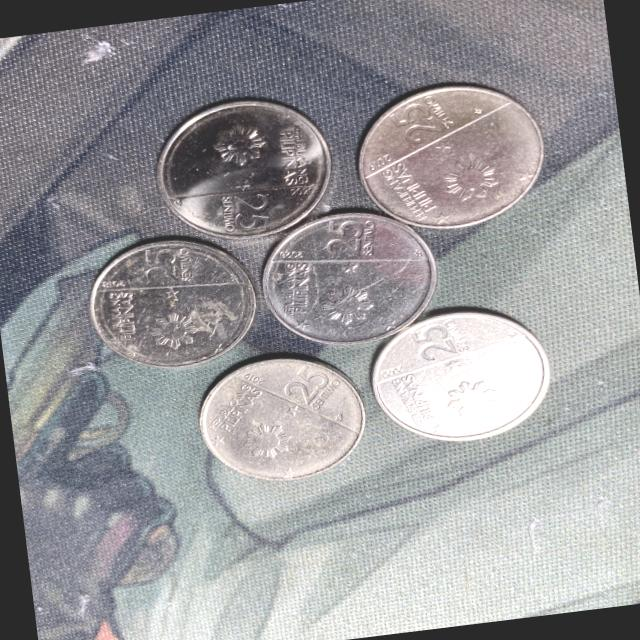25Cent_New_Front: (405, 320, 460, 366), (316, 213, 368, 260), (392, 104, 444, 148), (278, 366, 330, 408), (222, 190, 270, 234), (132, 244, 180, 288)
